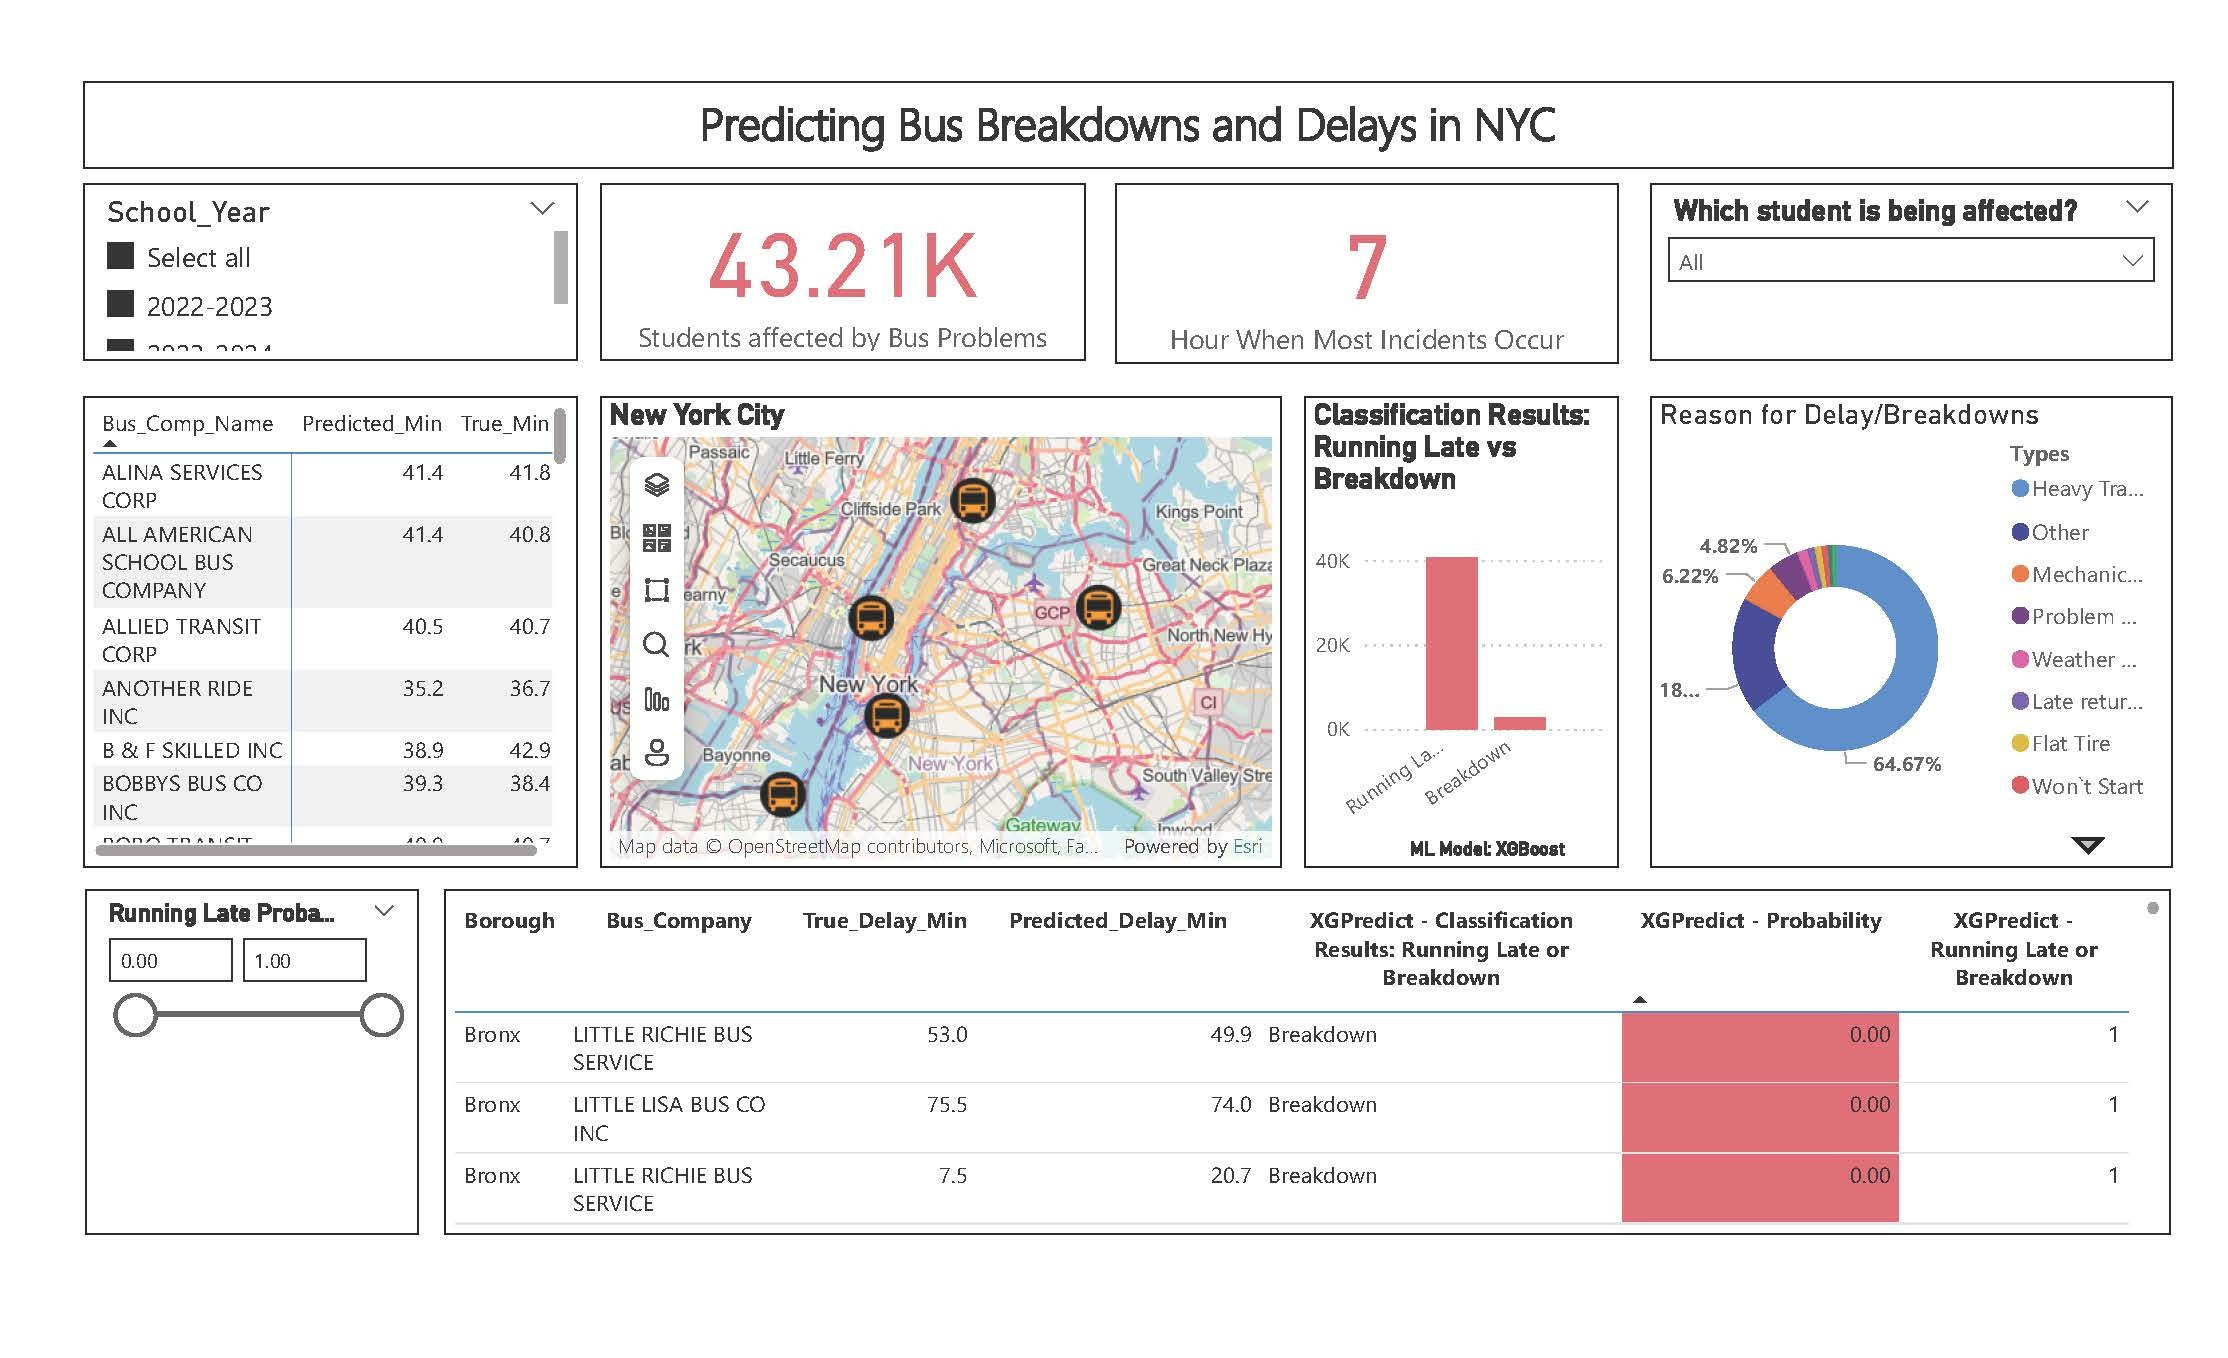

This screenshot's page, from the dashboard's own definition file:
{"tool":"powerbi","page":{"name":"Page 1","canvas":[1280,720],"ordinal":0},"visuals":[{"type":"textbox","box":[19.9,18.7,1247.7,52.2],"z":0},{"type":"pivotTable","title":"Actual vs Predicted Delay Time by Bus Company","fields":{"Rows":["Sheet1.Bus_Company_Name"],"Values":["Avg(Sheet1.Predicted_Delay_Minutes)","Avg(Sheet1.True_Delay_Minutes)"]},"box":[19.9,206.5,294.8,282.4],"z":1000},{"type":"esriVisual","title":"New York City","fields":{"Location":["Sheet1.Borough"]},"box":[328.8,206.2,406.9,282.4],"z":2000},{"type":"slicer","fields":{"Values":["Sheet1.School_Year"]},"box":[20.4,79.9,295.4,105.9],"z":3000},{"type":"card","fields":{"Values":["CountNonNull(Sheet1.Number_Of_Students_On_The_Bus)"]},"box":[328.8,79.9,289.8,105.9],"z":4000},{"type":"card","fields":{"Values":["Median(Sheet1.Hour)"]},"box":[635.4,79.9,301,107.8],"z":5000},{"type":"columnChart","title":"Classification Results: Running Late vs Breakdown","fields":{"Category":["Sheet1.XGPredict -  Classification Results: Running Late or Breakdown"],"Y":["CountNonNull(Sheet1.XGPredict - Probability vs Running Late)"]},"box":[748.7,206.2,187.6,282.4],"z":6000},{"type":"donutChart","title":"Reason for Delay/Breakdowns","fields":{"Y":["CountNonNull(Sheet1.Reason)"],"Category":["Sheet1.Reason"]},"box":[954.9,206.2,312.1,282.4],"z":7000},{"type":"slicer","fields":{"Values":["Sheet1.School_Age_or_PreK"]},"box":[954.9,79.9,312.1,105.9],"z":8000},{"type":"slicer","fields":{"Values":["Sheet1.XGPredict - Probability vs Running Late"]},"box":[21.2,501.2,198.6,206.3],"z":9000},{"type":"tableEx","fields":{"Values":["Sheet1.Borough","Sheet1.Bus_Company_Name","Sheet1.True_Delay_Minutes","Sheet1.Predicted_Delay_Minutes","Sheet1.XGPredict -  Classification Results: Running Late or Breakdown","Sheet1.XGPredict - Probability vs Running Late","Sheet1.XGPredict - Running Late or Breakdown"]},"box":[235.2,501.2,1031.3,206.3],"z":10000}]}

Visuals, with their boxes in screenshot pixels (x1, y1, x2, y2):
textbox: detection(97, 83, 2163, 170)
"Actual vs Predicted Delay Time by Bus Company" pivotTable: detection(97, 394, 585, 862)
"New York City" esriVisual: detection(608, 394, 1282, 861)
slicer - Sheet1.School_Year: detection(98, 185, 587, 360)
card - CountNonNull(Sheet1.Number_Of_Students_On_The_Bus): detection(608, 185, 1088, 360)
card - Median(Sheet1.Hour): detection(1116, 185, 1614, 363)
"Classification Results: Running Late vs Breakdown" columnChart: detection(1303, 394, 1614, 861)
"Reason for Delay/Breakdowns" donutChart: detection(1645, 394, 2162, 861)
slicer - Sheet1.School_Age_or_PreK: detection(1645, 185, 2162, 360)
slicer - Sheet1.XGPredict - Probability vs Running Late: detection(99, 882, 428, 1224)
tableEx - Sheet1.Borough x Sheet1.Bus_Company_Name: detection(453, 882, 2161, 1224)
